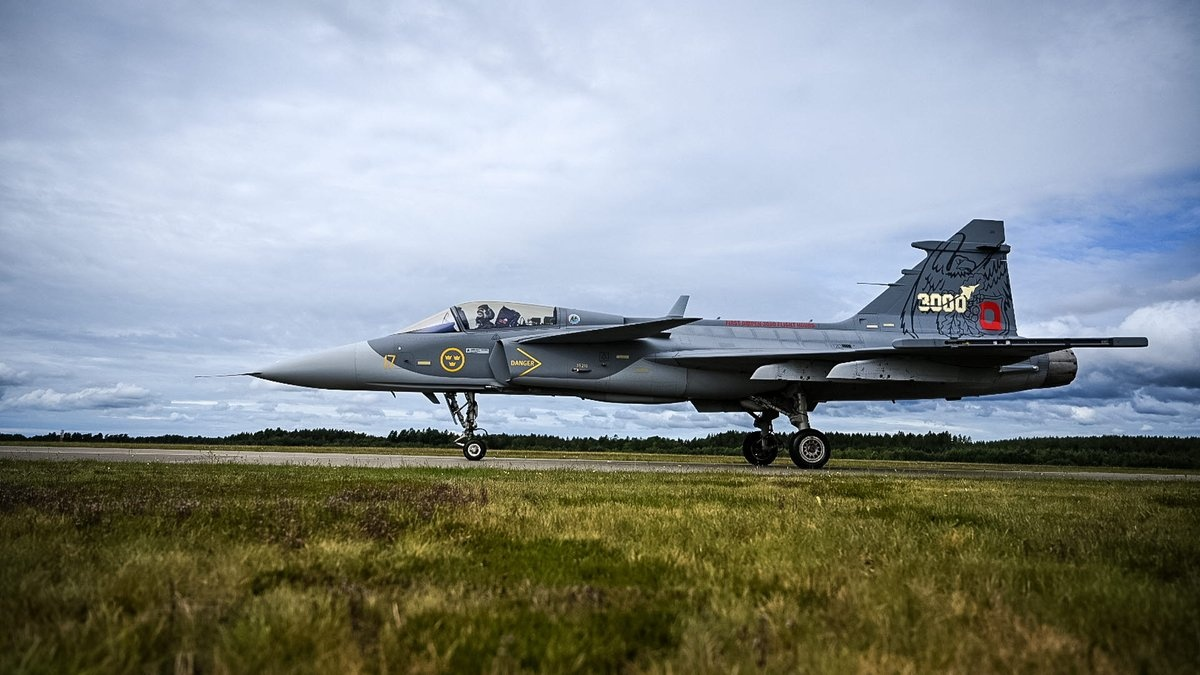JAS39: (194, 218, 1148, 468)
